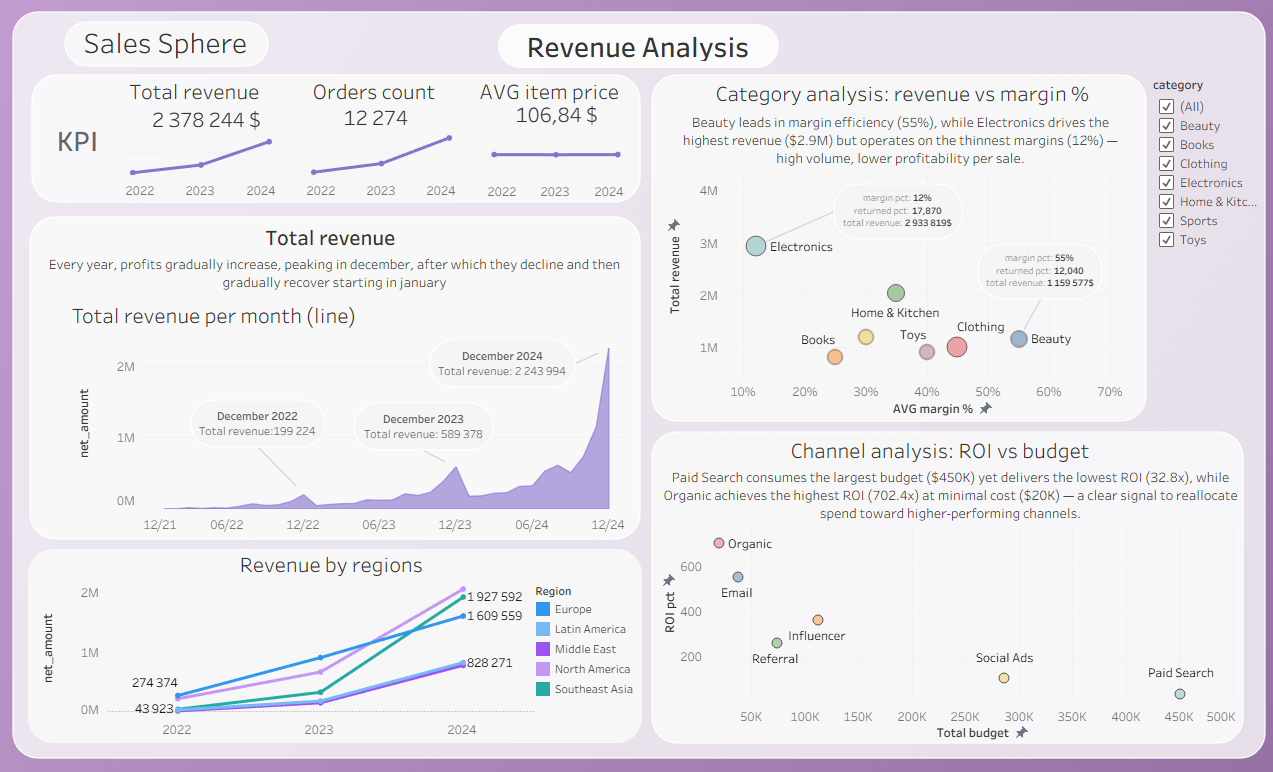

The dashboard page shown, as its layout file describes it:
{"tool":"tableau","page":{"name":"Revenue Analysis","canvas":[1000,1000],"units":"permille","ordinal":0},"visuals":[{"type":"image","param":"Image/purple background.jpg","box":[6.2,10,987.7,980]},{"type":"worksheet","title":"box","mark":"Automatic","box":[6.9,12.5,989.2,976.2]},{"type":"text","box":[72.4,47,149.7,48.5]},{"type":"text","box":[406,48.5,192.8,48.5]},{"type":"text","box":[371.9,113.6,122.9,37.9]},{"type":"filter","title":"Total revenue per month (line)","param":"[federated.1gyg1my0iss9ws1e4hd8w0xwzdkj].[none:category:nk]","box":[896.7,113.6,85.4,234.8]},{"type":"text","box":[240.8,115.2,107.4,34.9]},{"type":"text","box":[558.2,116.7,311.6,36.4]},{"type":"text","box":[103.3,119.7,148.9,33.3]},{"type":"worksheet","title":"AVG price per item","mark":"Automatic","box":[410.1,148.5,103.3,57.6]},{"type":"worksheet","title":"Orders count","mark":"Automatic","box":[279.9,150,95.2,43.9]},{"type":"worksheet","title":"Total revenue","mark":"Automatic","box":[101.7,153,118,109.1]},{"type":"text","box":[527.3,154.6,363.7,86.4]},{"type":"text","box":[51.5,166.2,45.4,55]},{"type":"worksheet","title":"Orders count (2)","mark":"Automatic","rows":["order_id"],"cols":["order_date"],"box":[244.6,186.2,116.9,76.2]},{"type":"worksheet","title":"AVG price per item2","mark":"Automatic","rows":["price"],"cols":["order_date"],"box":[383.9,187.5,106.9,78.8]},{"type":"worksheet","title":"Total revenue (2)","mark":"Automatic","rows":["net_amount"],"cols":["order_date"],"box":[100.1,190.9,117.2,72.7]},{"type":"worksheet","title":"Revenue vs margin % by category","mark":"Circle","rows":["total_revenue"],"cols":["avg_margin_pct"],"box":[516.9,238.8,370.8,301.2]},{"type":"text","box":[212.3,296.2,113.1,37.5]},{"type":"text","box":[42.3,331.2,450,56.2]},{"type":"worksheet","title":"Total revenue per month (line)","mark":"Area","rows":["net_amount"],"cols":["order_date"],"box":[62.3,390,433.1,296.2]},{"type":"text","box":[616.1,562.5,245.4,37.5]},{"type":"text","box":[518.5,595,445.4,83.8]},{"type":"worksheet","title":"Budget vs roi of channels","mark":"Circle","rows":["ROI_pct"],"cols":["total_budget"],"box":[518.5,675,443.1,270]},{"type":"text","box":[192,704.6,167.6,37.9]},{"type":"worksheet","title":"Revenue by regions (multi-line)","mark":"Line","rows":["net_amount"],"cols":["order_date"],"box":[34.6,745,386.2,197.5]},{"type":"legend","title":"Revenue by regions (multi-line)","param":"[federated.1gyg1my0iss9ws1e4hd8w0xwzdkj].[none:region:nk]","box":[420,747.5,83.9,145]}]}

Visuals, with their boxes on the dashboard's canvas, which has no fixed pixel size, in thousandths of its width and height (x1, y1, x2, y2). These are canvas units, not pixel positions in the 1273x772 screenshot, which may show the page scaled, cropped or inside an application window:
image: 6 10 994 990
"box" worksheet: 7 12 996 989
text: 72 47 222 96
text: 406 48 599 97
text: 372 114 495 152
"Total revenue per month (line)" filter: 897 114 982 348
text: 241 115 348 150
text: 558 117 870 153
text: 103 120 252 153
"AVG price per item" worksheet: 410 148 513 206
"Orders count" worksheet: 280 150 375 194
"Total revenue" worksheet: 102 153 220 262
text: 527 155 891 241
text: 52 166 97 221
"Orders count (2)" worksheet: 245 186 362 262
"AVG price per item2" worksheet: 384 188 491 266
"Total revenue (2)" worksheet: 100 191 217 264
"Revenue vs margin % by category" worksheet (Circle marks): 517 239 888 540
text: 212 296 325 334
text: 42 331 492 387
"Total revenue per month (line)" worksheet (Area marks): 62 390 495 686
text: 616 562 862 600
text: 518 595 964 679
"Budget vs roi of channels" worksheet (Circle marks): 518 675 962 945
text: 192 705 360 742
"Revenue by regions (multi-line)" worksheet (Line marks): 35 745 421 942
"Revenue by regions (multi-line)" legend: 420 748 504 892
